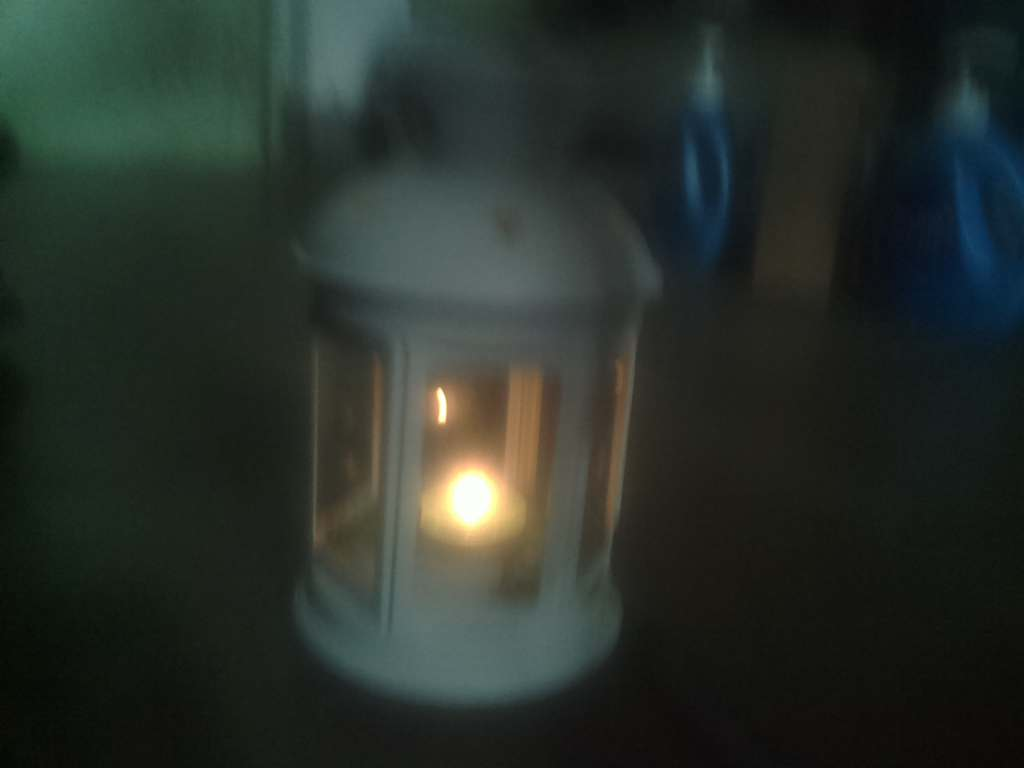fire: (420, 462, 539, 565)
